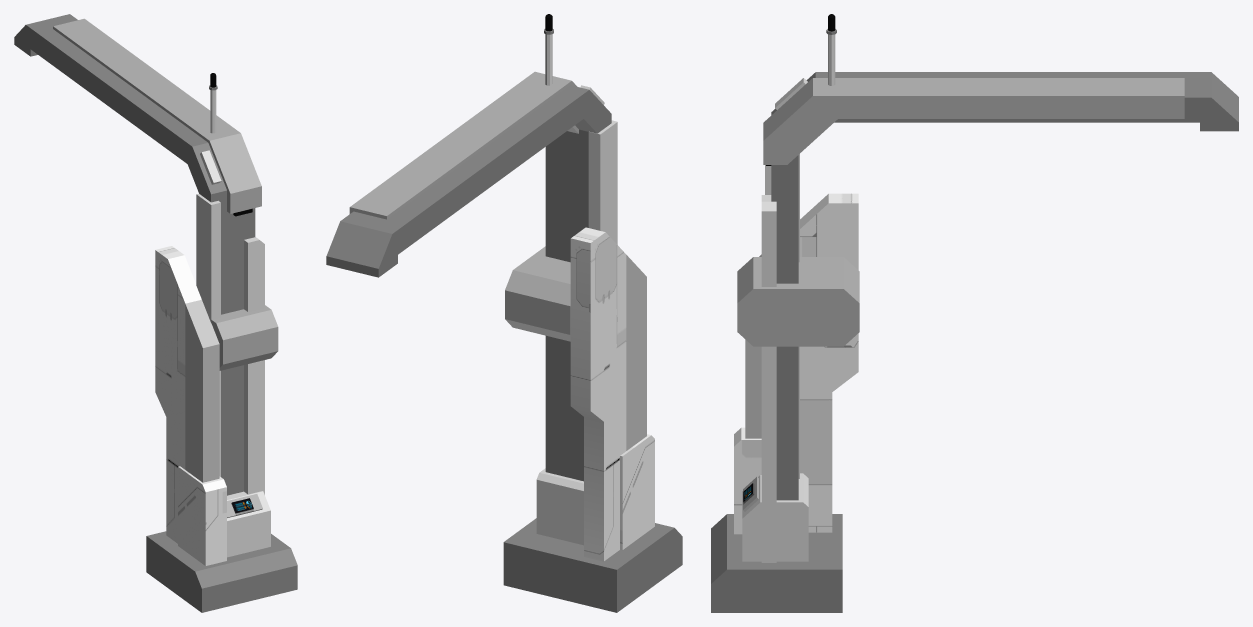
File: SM_BuildingExtra_Pillar_1.fbx
The picture shows the model from 3 angles, left to right: view 1: azimuth 30°, elevation 25°; view 2: azimuth 150°, elevation 25°; view 3: azimuth 270°, elevation 25°; orthographic projection. The views are drawn at different scales.
Visible parts, largest first — view 1: SM_BuildingExtra_Pillar_1; view 2: SM_BuildingExtra_Pillar_1; view 3: SM_BuildingExtra_Pillar_1.
Boxes of the visible parts, x1,y1,x2,y2 form: SM_BuildingExtra_Pillar_1: (14, 14, 297, 612); SM_BuildingExtra_Pillar_1: (326, 14, 682, 612); SM_BuildingExtra_Pillar_1: (711, 14, 1238, 612).
Size of the model in its own units: 199 by 965 by 798.
